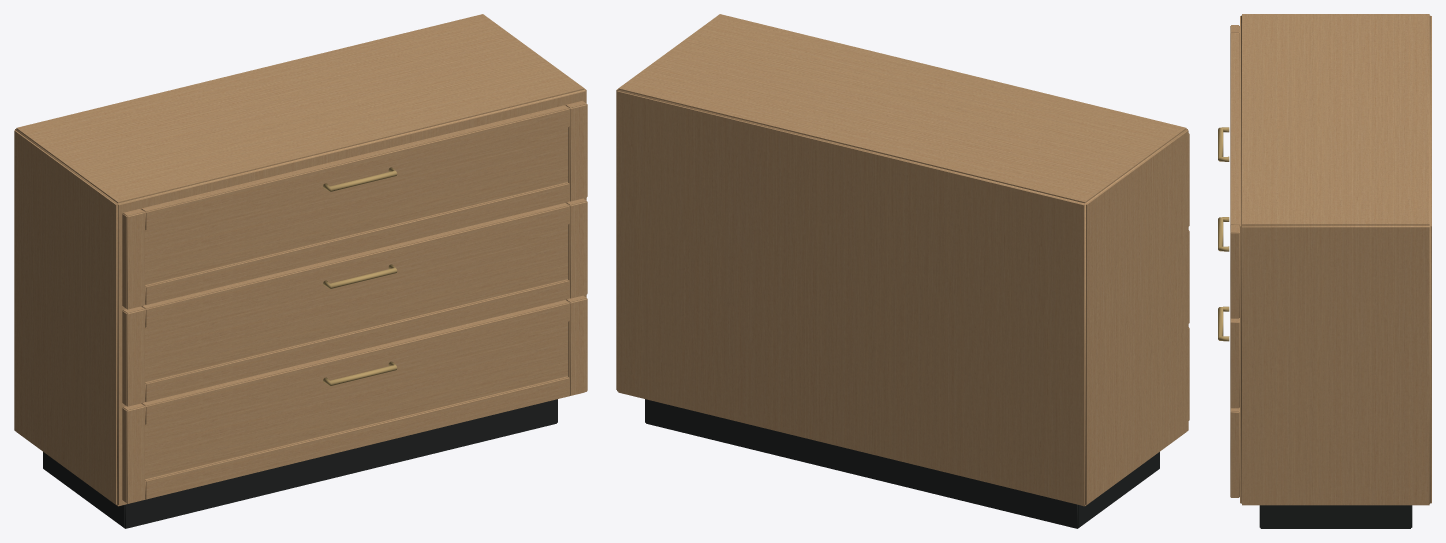
File: scandinavian.dresser.gltf
The picture shows the model from 3 angles, left to right: view 1: azimuth 30°, elevation 25°; view 2: azimuth 150°, elevation 25°; view 3: azimuth 270°, elevation 25°; orthographic projection. The views are drawn at different scales.
Visible parts, largest first — view 1: scandinavian.dresser.carcass; view 2: scandinavian.dresser.carcass; view 3: scandinavian.dresser.carcass.
Boxes of the visible parts, x1,y1,x2,y2 form: scandinavian.dresser.carcass: (14,14,587,528); scandinavian.dresser.carcass: (616,14,1189,528); scandinavian.dresser.carcass: (1218,14,1431,528).
Bounding box in the file's own units: 1.15 × 0.79 × 0.49.
3 materials, 1 textured.
